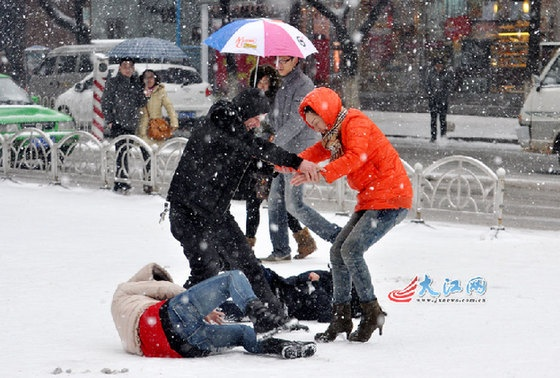falling: (103, 251, 327, 367)
